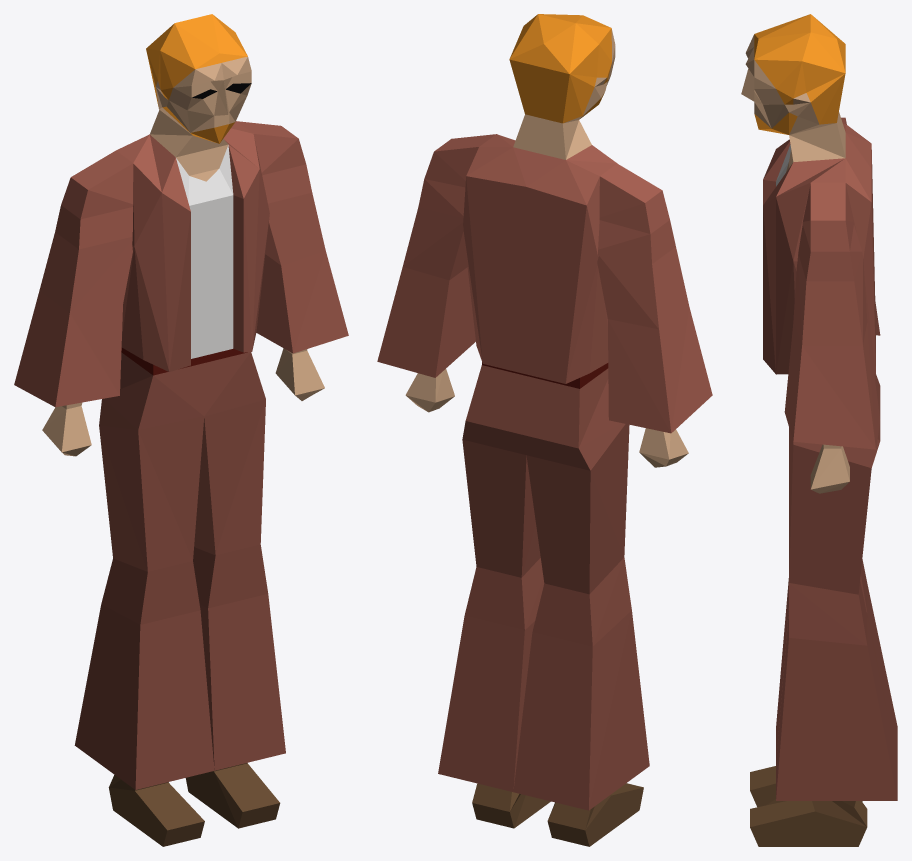
Rendered from bob.glb.
3 views of the same model, side by side, from view 1: azimuth 30°, elevation 25°; view 2: azimuth 150°, elevation 25°; view 3: azimuth 270°, elevation 25° (orthographic).
Size of the model in its own units: 78 by 202 by 36.
Materials: 1 (1 with a texture image).
